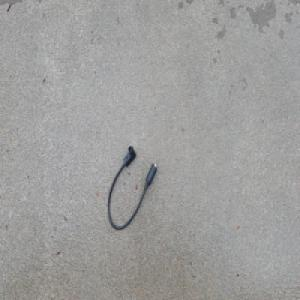Wire: (106, 143, 157, 231)
